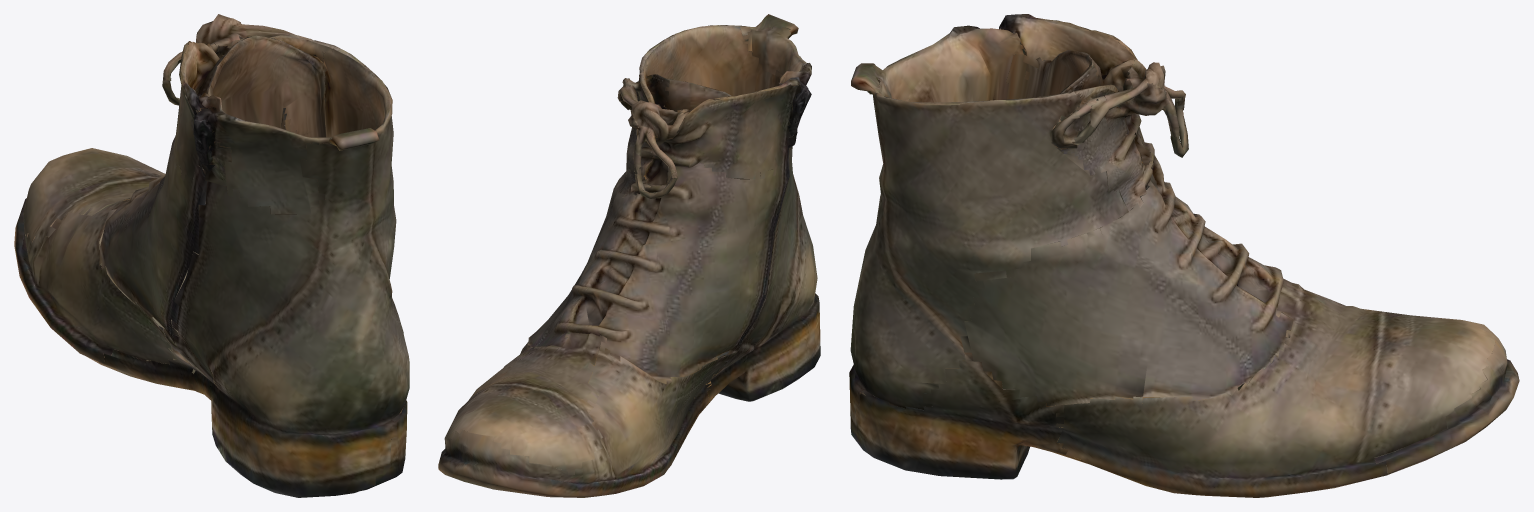
File: ankleboot.glb
The picture shows the model from 3 angles, left to right: view 1: azimuth 30°, elevation 25°; view 2: azimuth 150°, elevation 25°; view 3: azimuth 270°, elevation 25°; orthographic projection. The views are drawn at different scales.
Parts seen in each view (by area): view 1: shoe; view 2: shoe; view 3: shoe.
Part boxes in pixels (x1,y1,x2,y2): shoe: (14, 14, 409, 497); shoe: (438, 14, 820, 497); shoe: (849, 14, 1519, 497).
Size of the model in its own units: 0.1045 by 0.1578 by 0.2502.
1 material, 1 textured.
